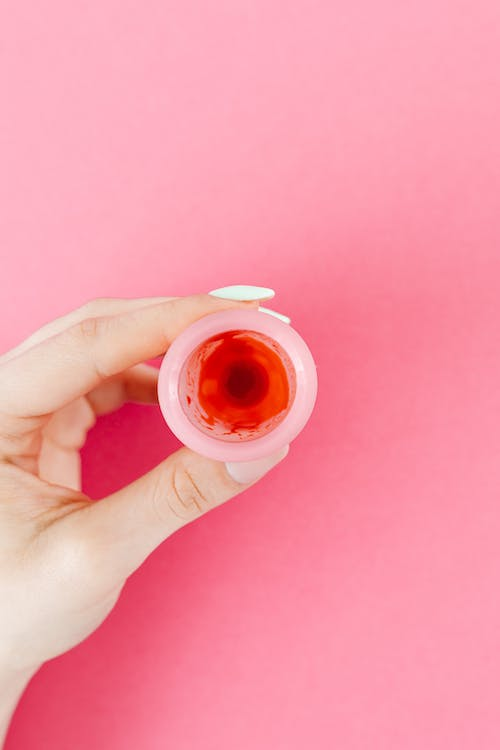blood: (174, 327, 298, 446)
